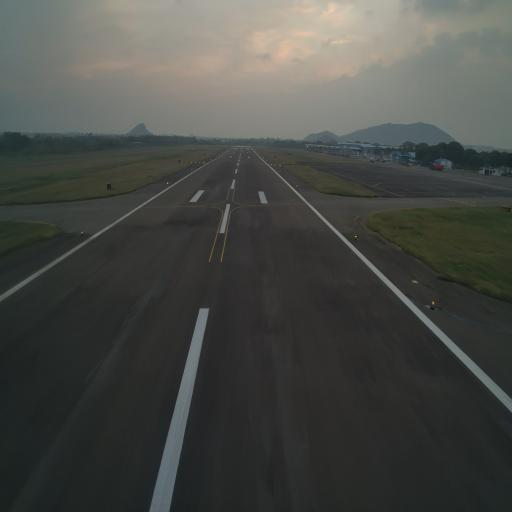on: (430, 299, 437, 310), (79, 228, 85, 238), (354, 233, 358, 241)
